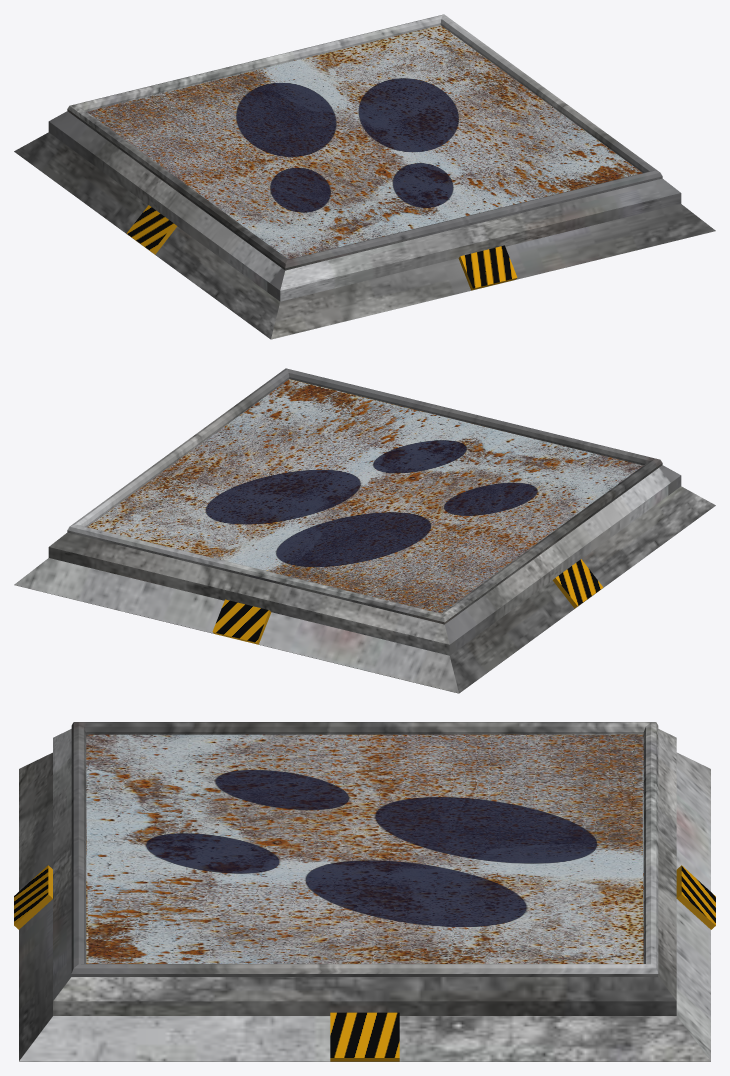
File: PlaquePressionKOT.fbx
The picture shows the model from 3 angles, top to bottom: view 1: azimuth 30°, elevation 25°; view 2: azimuth 150°, elevation 25°; view 3: azimuth 270°, elevation 25°; orthographic projection. The views are drawn at different scales.
Parts seen in each view (by area): view 1: Plaque, Base; view 2: Plaque, Base; view 3: Plaque, Base.
Part boxes in pixels (bbox=[...]): Plaque: bbox=[48, 14, 681, 301]; Base: bbox=[14, 132, 715, 339]; Plaque: bbox=[48, 368, 681, 655]; Base: bbox=[14, 486, 715, 693]; Plaque: bbox=[53, 722, 676, 1015]; Base: bbox=[14, 752, 715, 1061].
Size of the model in its own units: 203 by 23 by 203.
